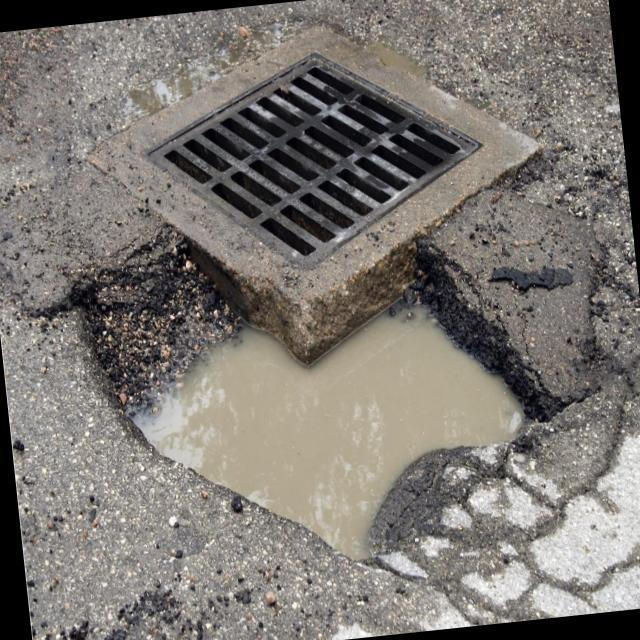Pothole: (75, 193, 562, 595)
